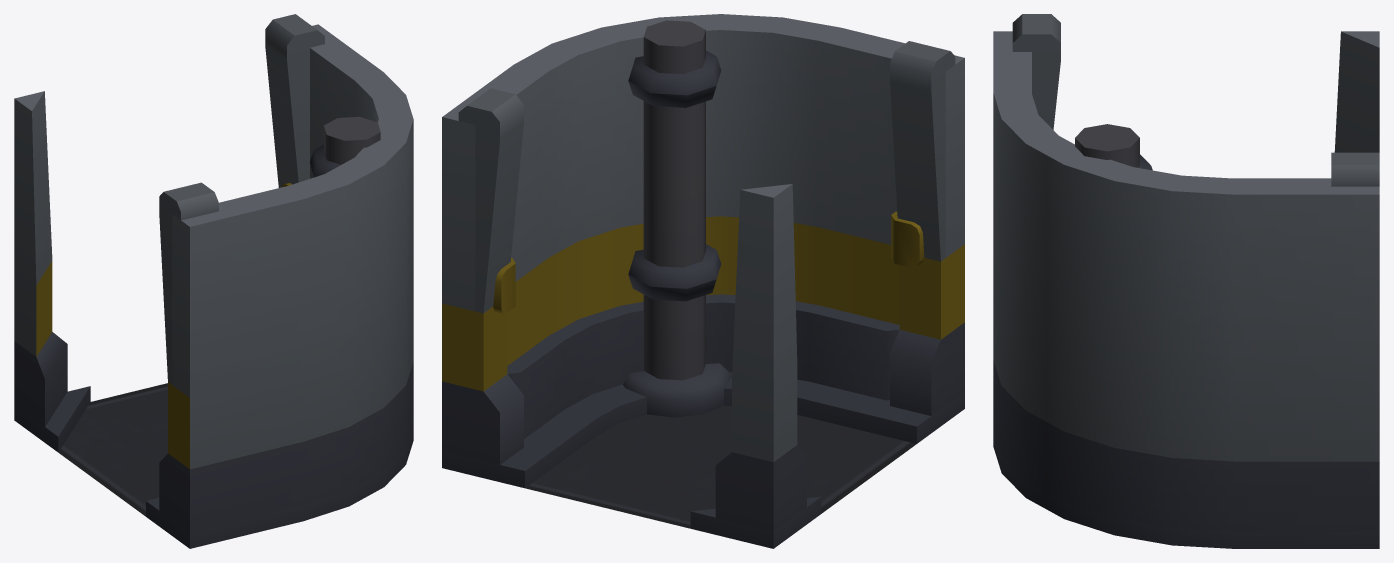
File: k_corridor_corner.glb
3 renders of one model, left to right at view 1: azimuth 30°, elevation 25°; view 2: azimuth 150°, elevation 25°; view 3: azimuth 270°, elevation 25°, orthographic. The views are drawn at different scales.
Parts seen in each view (by area): view 1: corridor-corner; view 2: corridor-corner; view 3: corridor-corner.
Part boxes in pixels (x1=…): corridor-corner: x1=14, y1=14, x2=413, y2=548; corridor-corner: x1=442, y1=14, x2=964, y2=548; corridor-corner: x1=993, y1=14, x2=1379, y2=548.
Bounding box in the file's own units: 4 × 4.25 × 4.
Materials: 1 (1 with a texture image).
